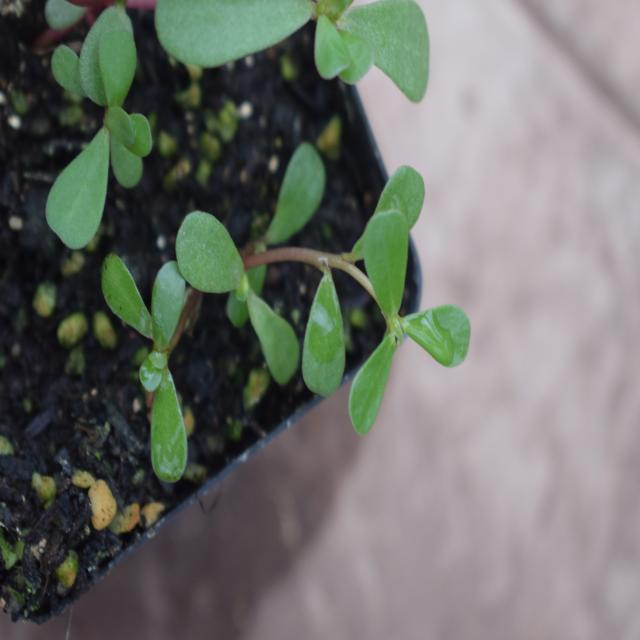purslane: (38, 19, 525, 444)
